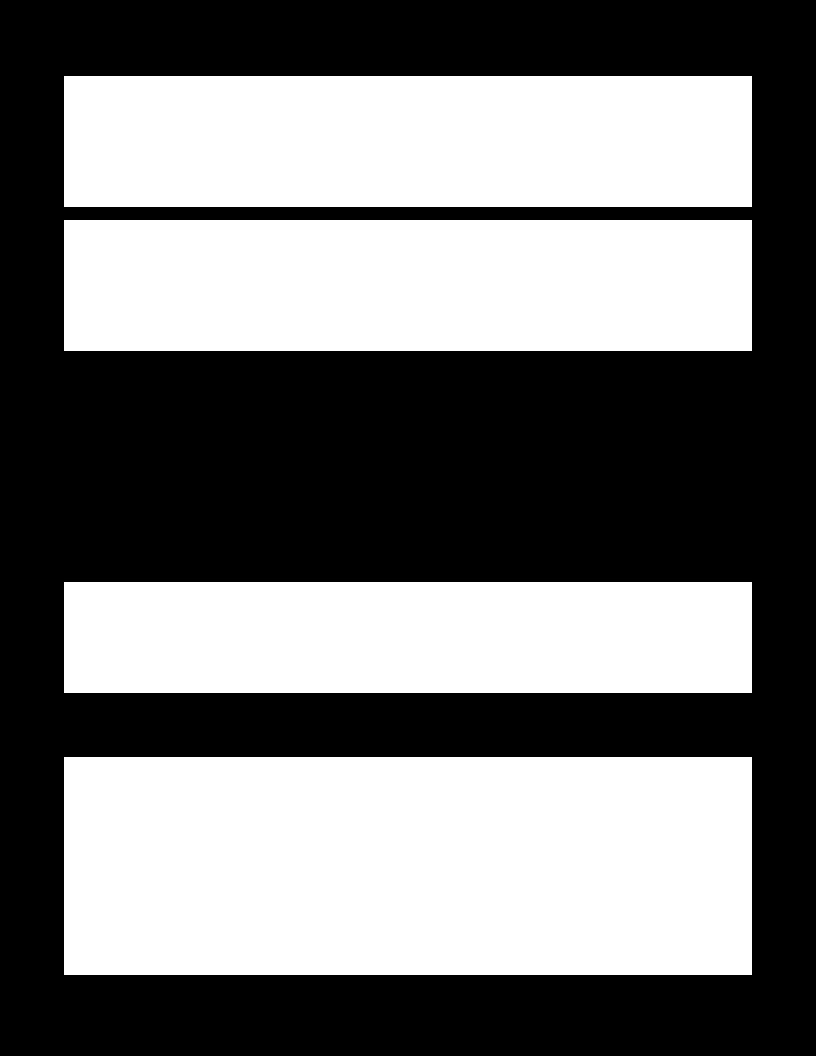table: (64, 757, 751, 974), (64, 76, 751, 206), (64, 220, 751, 350), (64, 582, 751, 692)
